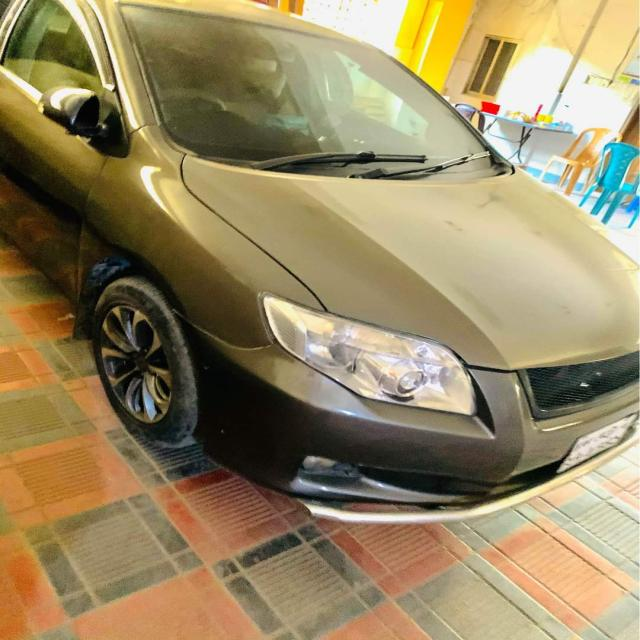black: (24, 12, 630, 494)
